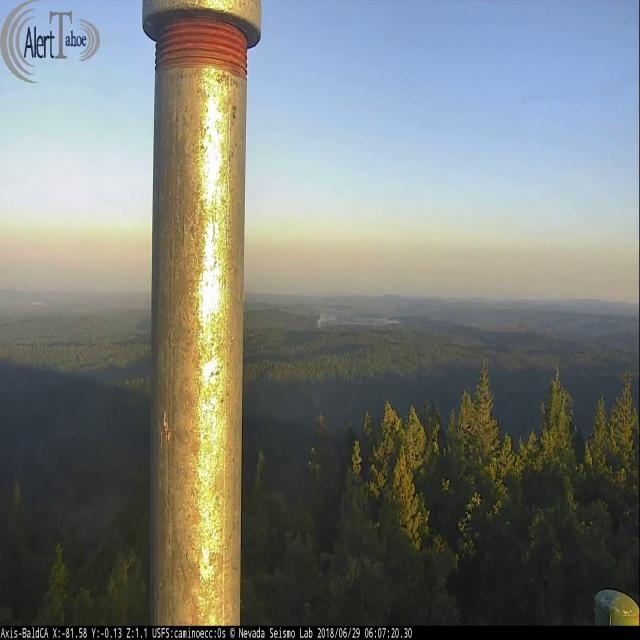smoke: (318, 310, 402, 334)
